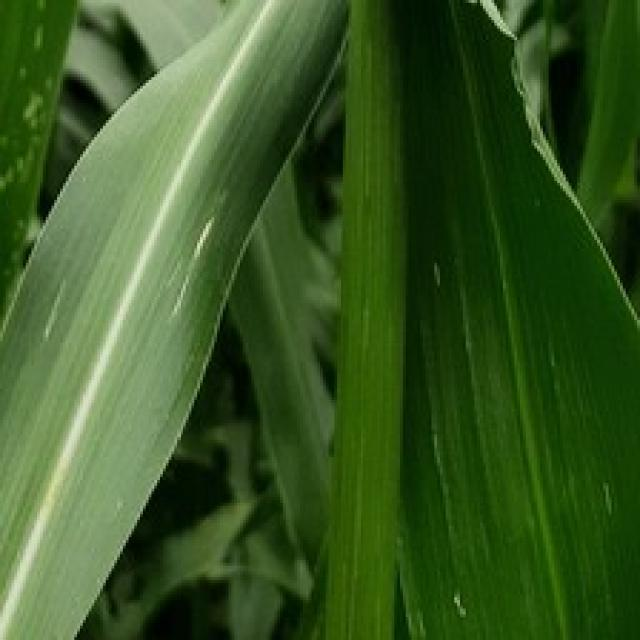Corn: (0, 0, 637, 637), (389, 0, 637, 637), (0, 0, 89, 637)
